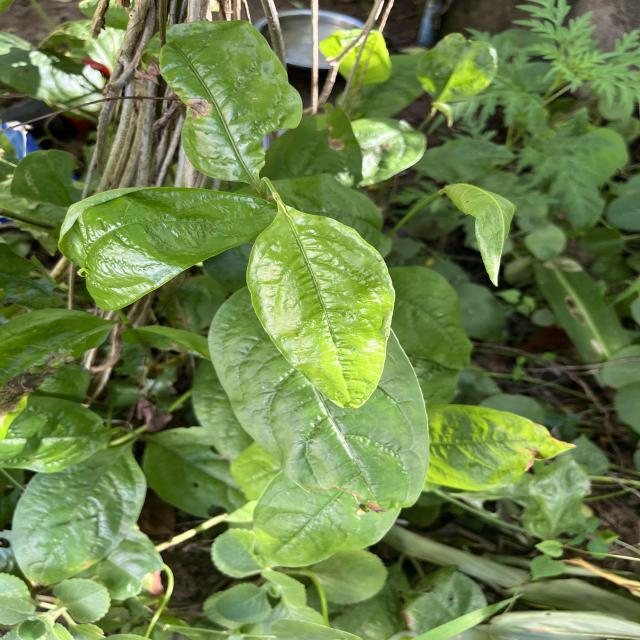Plumbago indica: (244, 202, 401, 412), (54, 185, 280, 313), (142, 20, 306, 186), (7, 444, 151, 590)
